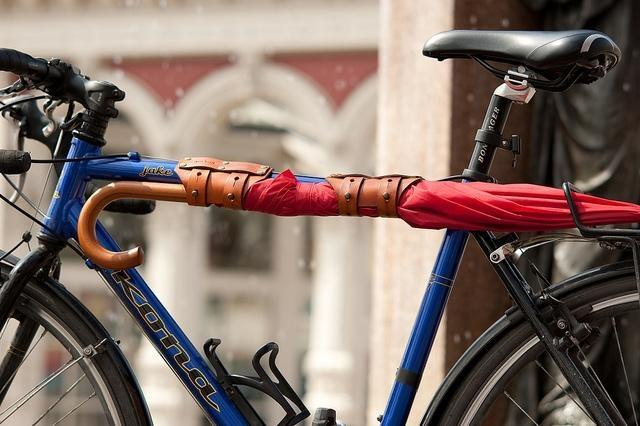bicycle: (0, 39, 638, 423)
